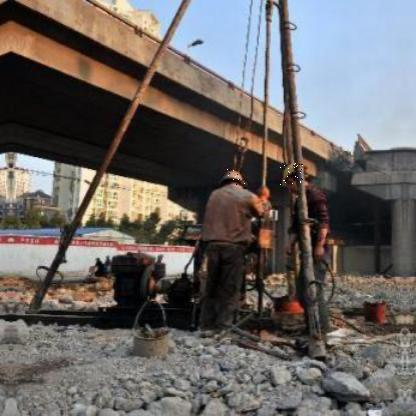safetyhelmet: (280, 163, 304, 186), (222, 169, 248, 187)
